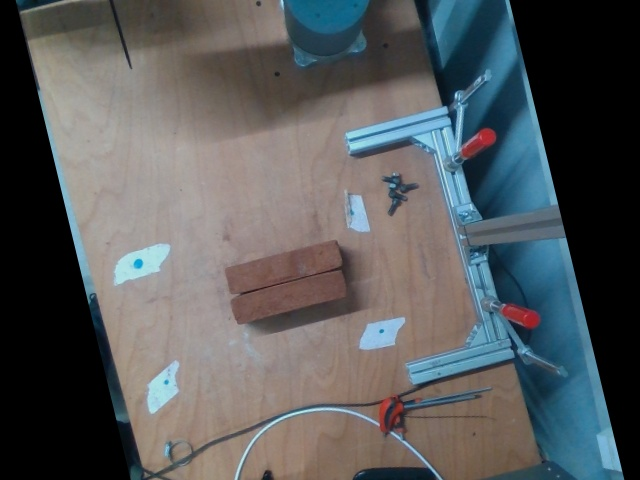brick-side: (226, 240, 342, 292), (230, 271, 345, 323)
